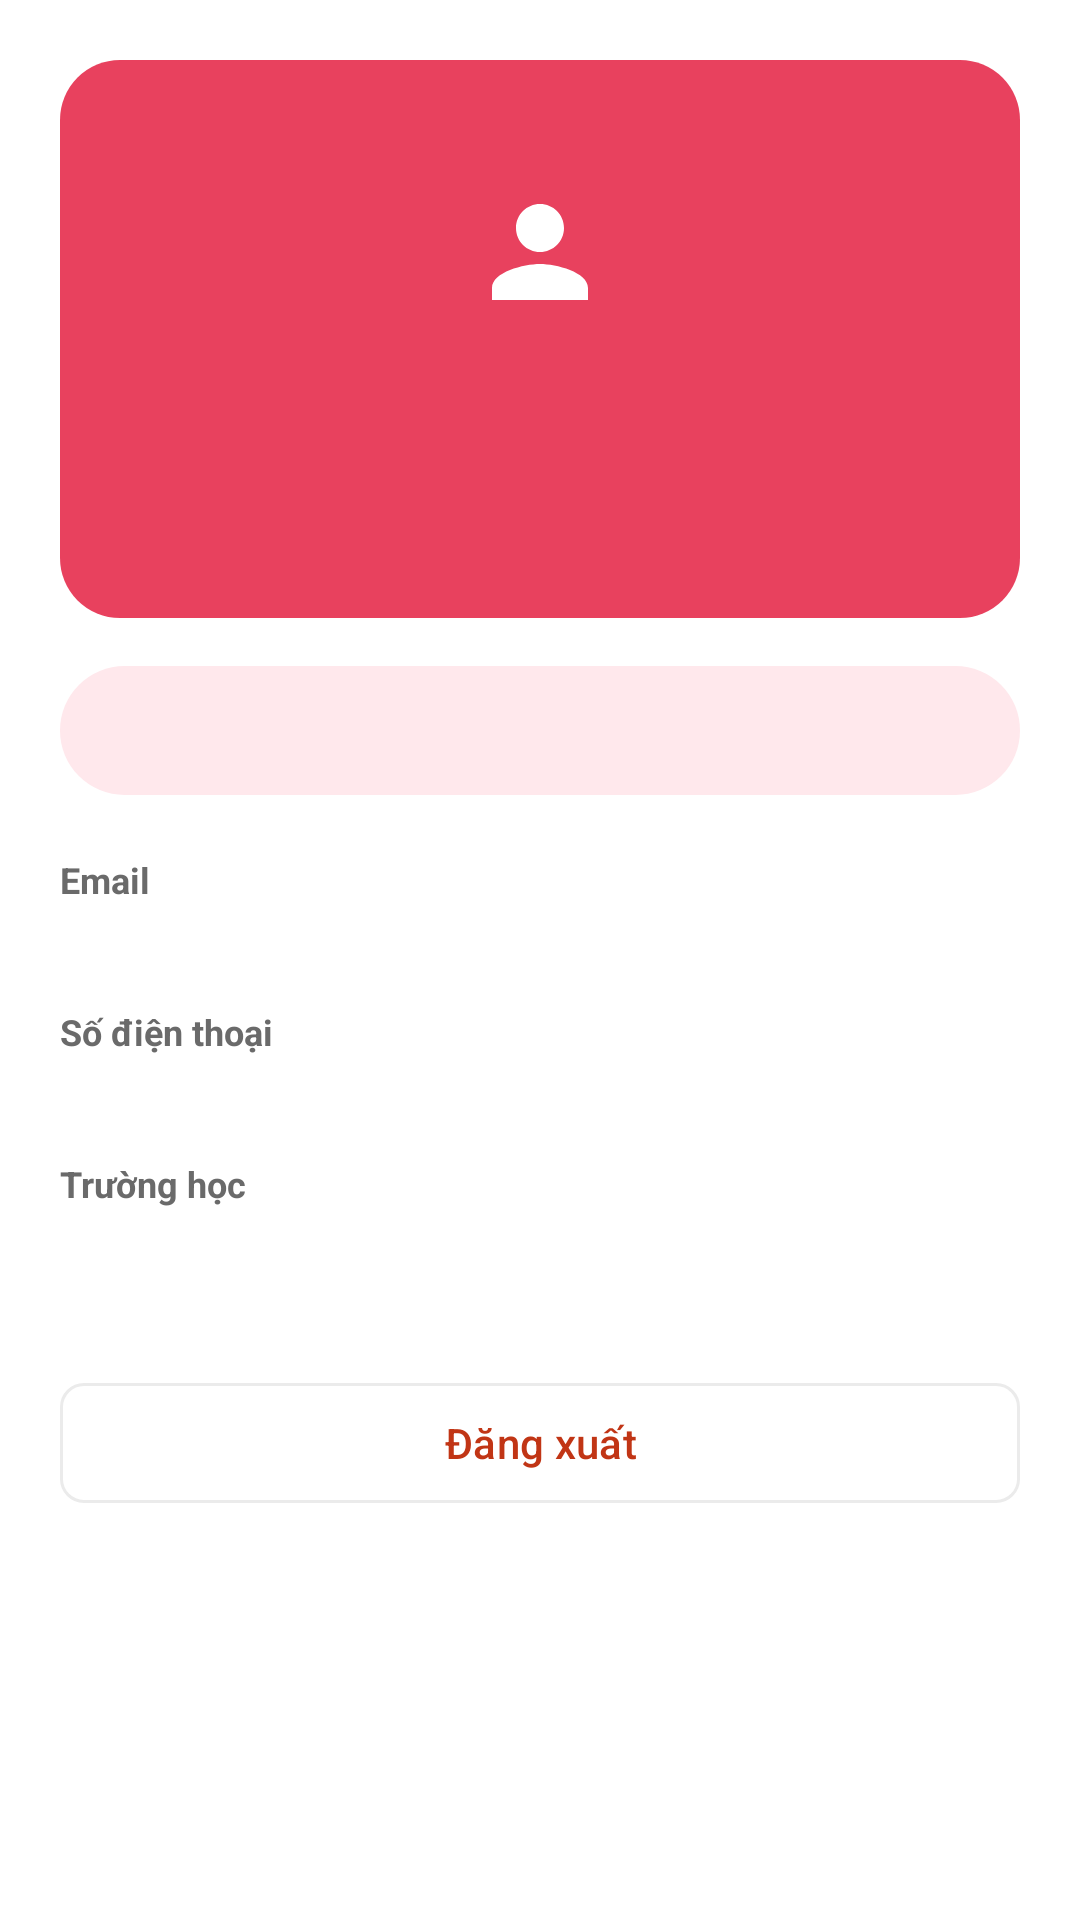

Icon bounding boxes for this 1080*1920 phone screenshot, format [x1=x1, y1=y1, x2=x2, y2=y2]:
person: [x1=492, y1=204, x2=588, y2=300]
